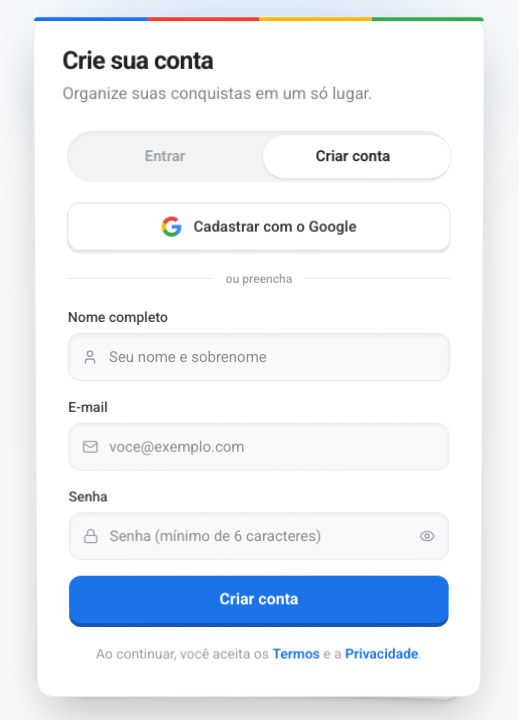
Scenario: AuthScreen › blocks sign up when the password has appeared in a known breach
In the field labelled "Nome completo": (259, 357) x1=68 y1=333 x2=450 y2=381, type "Ana Souza"
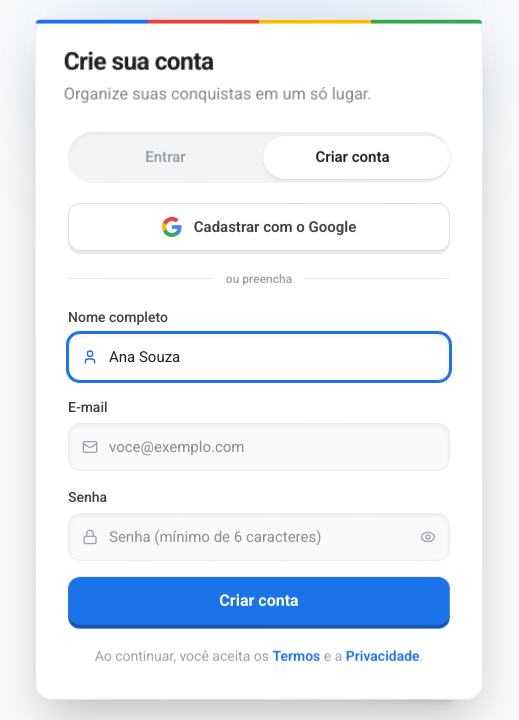
In the field labelled "E-mail": (259, 447) x1=68 y1=423 x2=450 y2=471, type "nova@example.com"
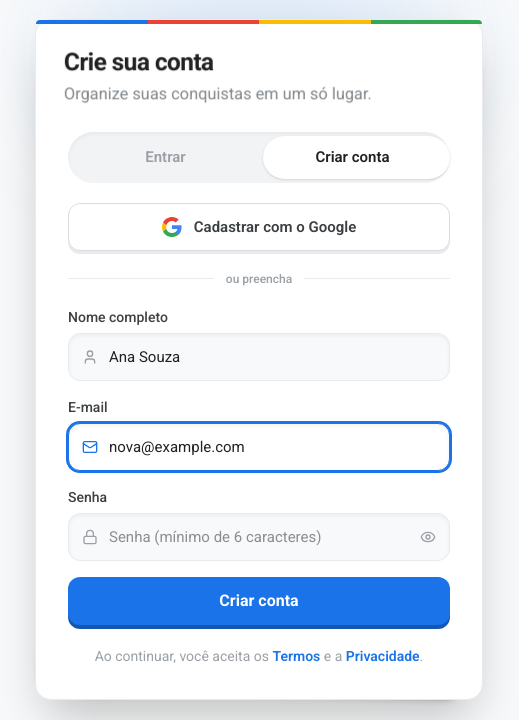
In the password field labelled "Senha": (259, 537) x1=68 y1=513 x2=450 y2=561, type "123456"
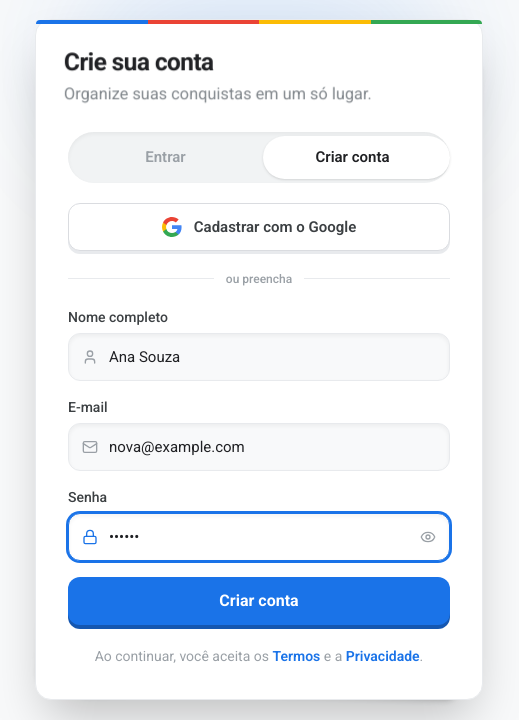
Click the submit button: (259, 601) x1=68 y1=577 x2=450 y2=625
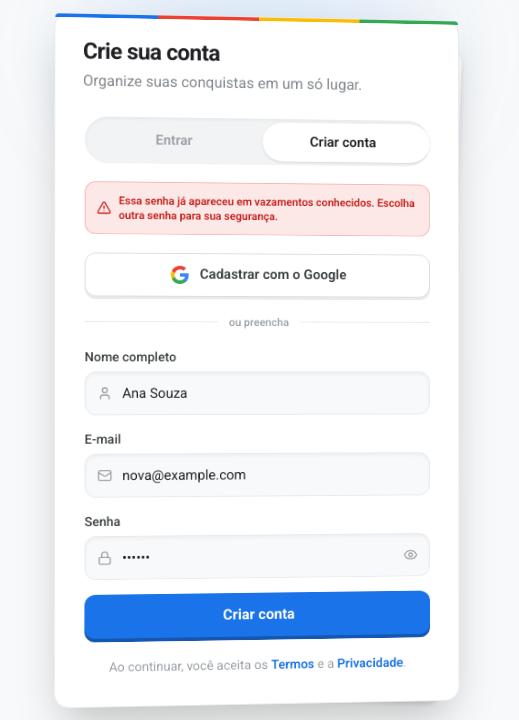
Expected: the text "vazamentos conhecidos" is shown, x1=119 y1=194 x2=415 y2=222
